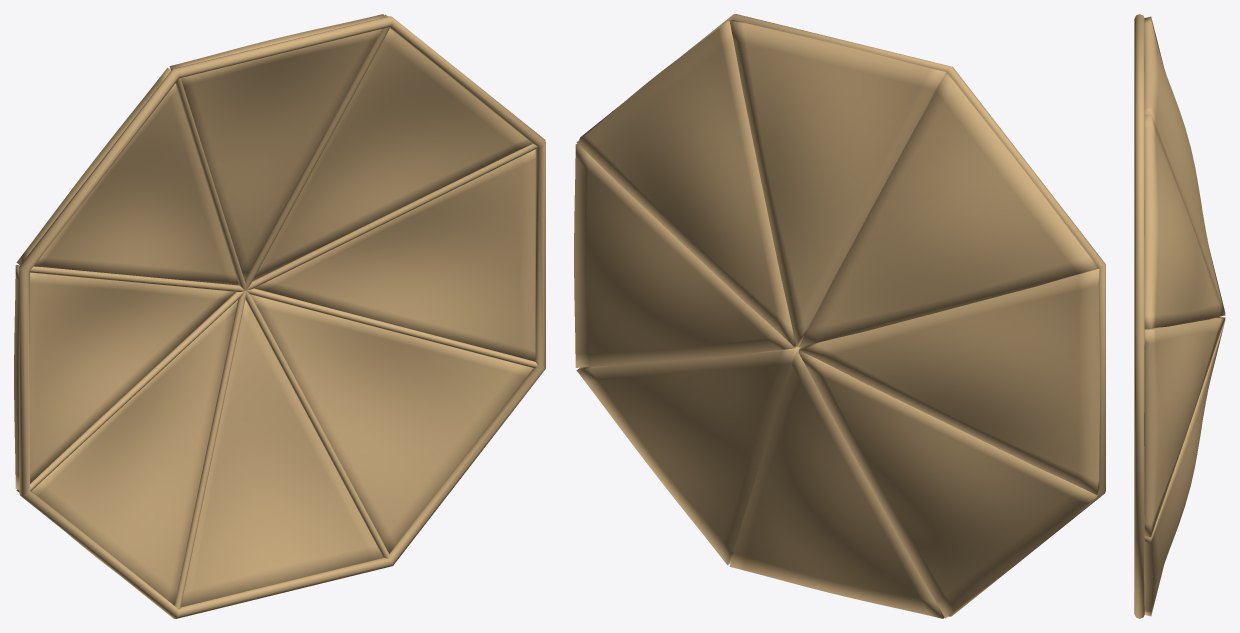
Rendered from facet-gold.glb.
3 renders of one model, left to right at view 1: azimuth 30°, elevation 25°; view 2: azimuth 150°, elevation 25°; view 3: azimuth 270°, elevation 25°, orthographic. The views are drawn at different scales.
Parts seen in each view (by area): view 1: Pressed concave facet 6, Pressed concave facet 7, Pressed concave facet 5, Pressed concave facet 0, Pressed concave facet 4, Pressed concave facet 1, Pressed concave facet 3, Pressed concave facet 2, Octagonal frame, Structural fold.005, Structural fold, Structural fold.007 (+5 smaller); view 2: Pressed concave facet 2, Pressed concave facet 3, Pressed concave facet 1, Pressed concave facet 4, Pressed concave facet 0, Pressed concave facet 5, Pressed concave facet 7, Pressed concave facet 6, Octagonal frame; view 3: Pressed concave facet 0, Pressed concave facet 7, Octagonal frame, Pressed concave facet 1, Pressed concave facet 6, Pressed concave facet 2.
Part boxes in pixels (x1,y1,x2,y2): Pressed concave facet 6: [251, 295, 533, 553]; Pressed concave facet 7: [254, 149, 535, 361]; Pressed concave facet 5: [181, 299, 383, 607]; Pressed concave facet 0: [252, 14, 532, 280]; Pressed concave facet 4: [16, 300, 237, 605]; Pressed concave facet 1: [169, 14, 385, 279]; Pressed concave facet 3: [14, 265, 235, 489]; Pressed concave facet 2: [16, 67, 239, 285]; Octagonal frame: [19, 16, 545, 618]; Structural fold.005: [175, 291, 245, 609]; Structural fold: [246, 144, 537, 290]; Structural fold.007: [246, 288, 537, 367]; Pressed concave facet 2: [798, 73, 1098, 347]; Pressed concave facet 3: [799, 269, 1100, 494]; Pressed concave facet 1: [729, 20, 946, 346]; Pressed concave facet 4: [798, 350, 1097, 618]; Pressed concave facet 0: [576, 21, 795, 346]; Pressed concave facet 5: [729, 347, 944, 618]; Pressed concave facet 7: [574, 143, 798, 367]; Pressed concave facet 6: [576, 346, 799, 565]; Octagonal frame: [579, 14, 1105, 616]; Pressed concave facet 0: [1144, 114, 1225, 328]; Pressed concave facet 7: [1144, 317, 1225, 536]; Octagonal frame: [1134, 14, 1144, 618]; Pressed concave facet 1: [1144, 16, 1225, 313]; Pressed concave facet 6: [1144, 319, 1225, 616]; Pressed concave facet 2: [1164, 70, 1209, 248].
Size of the model in its own units: 1.88 by 1.88 by 0.3066.
